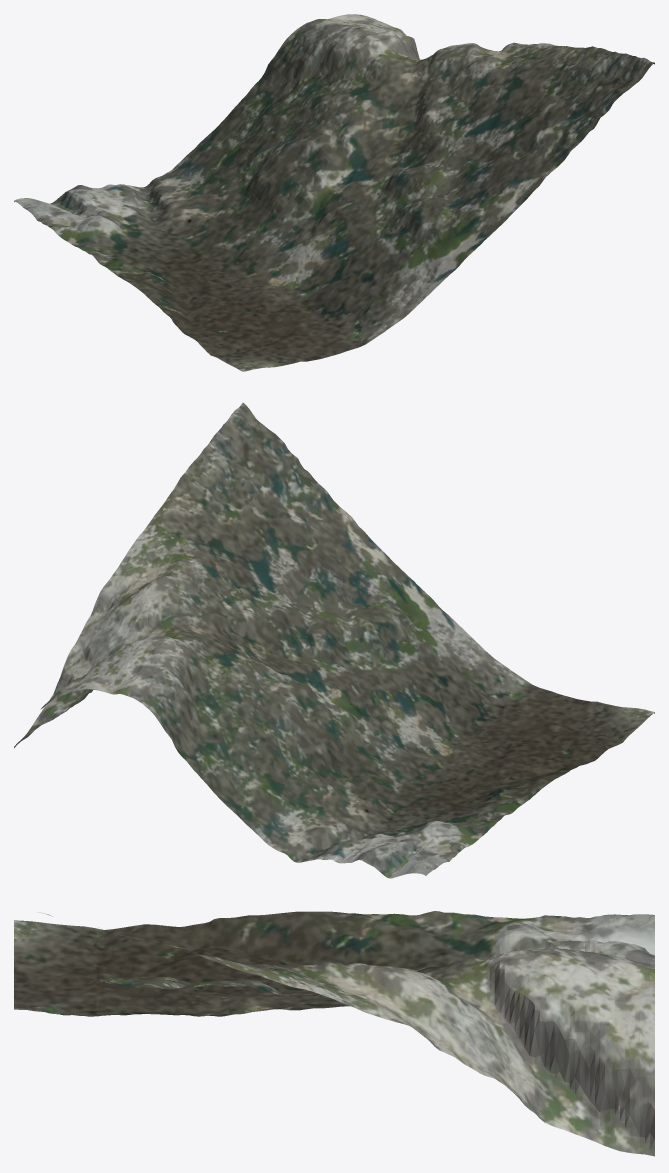
The picture shows the model from 3 angles, top to bottom: view 1: azimuth 30°, elevation 25°; view 2: azimuth 150°, elevation 25°; view 3: azimuth 270°, elevation 25°; orthographic projection. The views are drawn at different scales.
Size of the model in its own units: 250 by 131 by 241.
1 material, 1 textured.
